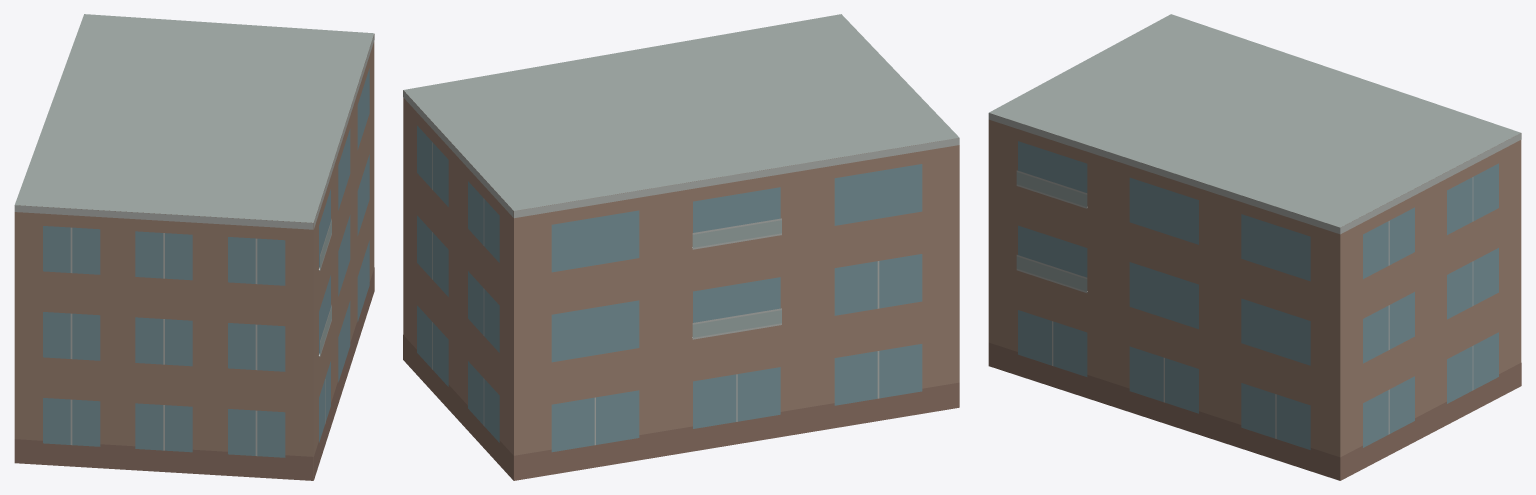
The model's file is survey-upis-32700876.glb.
3 renders of one model, left to right at view 1: azimuth 30°, elevation 25°; view 2: azimuth 150°, elevation 25°; view 3: azimuth 270°, elevation 25°, orthographic. The views are drawn at different scales.
Parts seen in each view (by area): view 1: survey-upis-32700876.tmp; view 2: survey-upis-32700876.tmp; view 3: survey-upis-32700876.tmp.
Part boxes in pixels (bbox=[...]): survey-upis-32700876.tmp: bbox=[14, 14, 374, 480]; survey-upis-32700876.tmp: bbox=[403, 14, 959, 480]; survey-upis-32700876.tmp: bbox=[988, 14, 1521, 480].
Bounding box in the file's own units: 16.56 × 9.15 × 17.45.
